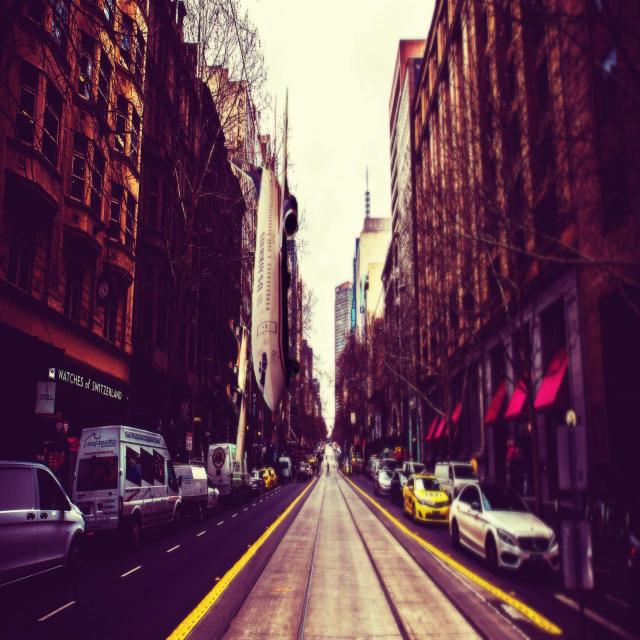airplane: (226, 86, 300, 413)
